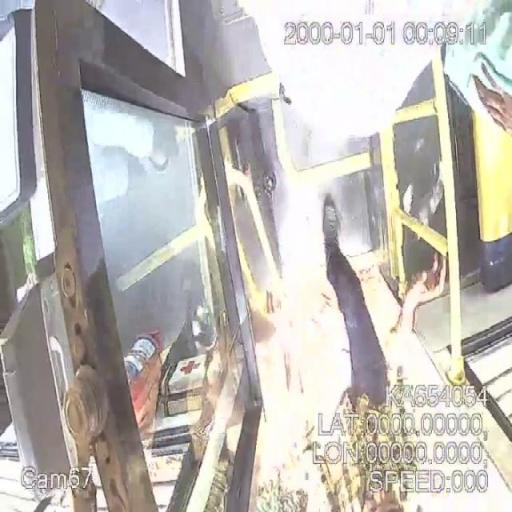persona: (295, 192, 446, 512)
